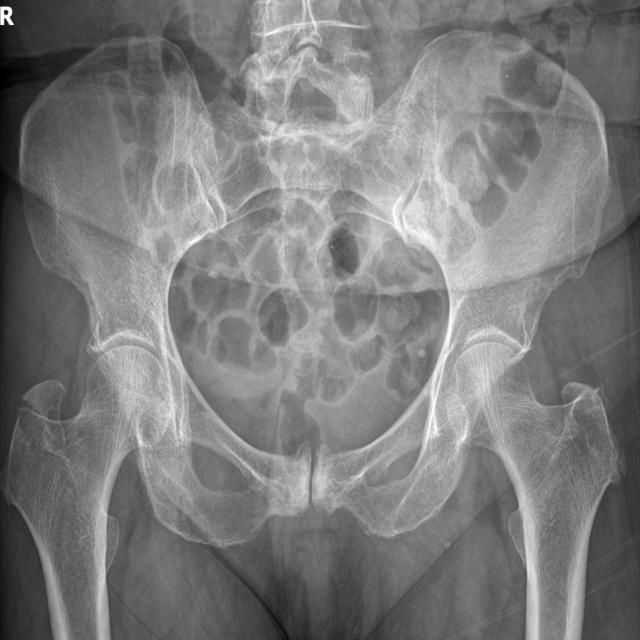normal-left: (446, 342, 627, 640)
right-grater-trochanter: (7, 345, 171, 640), (22, 378, 64, 441)
